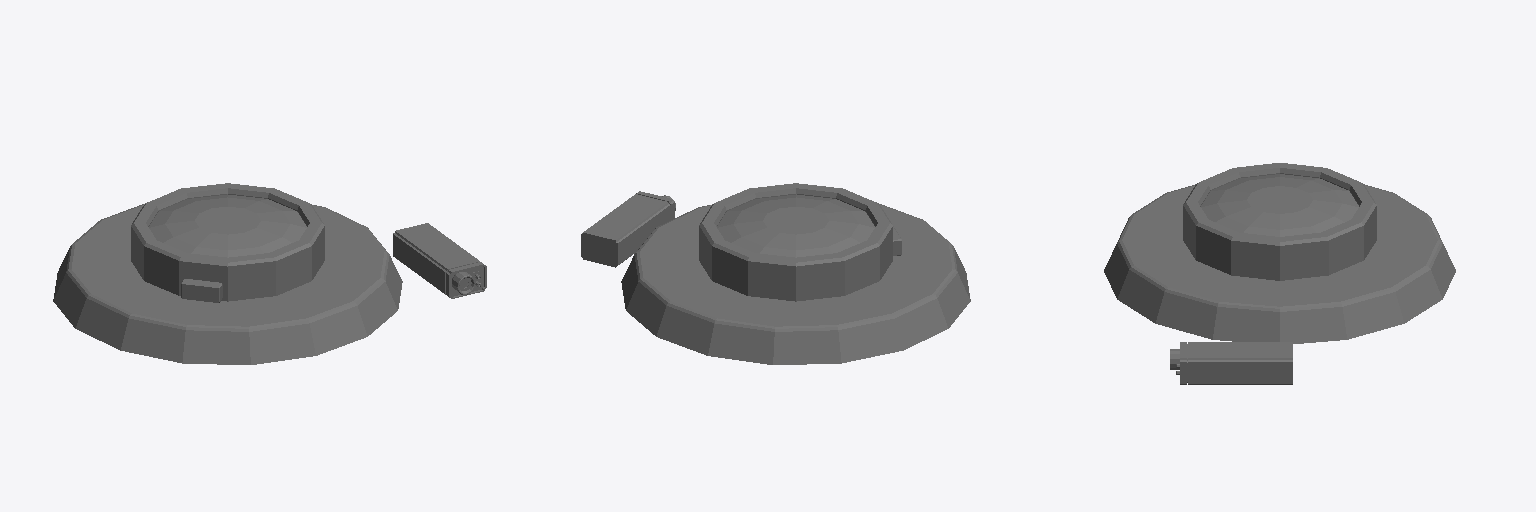
The model's file is Lights.obj.
3 views of the same model, side by side, from view 1: azimuth 30°, elevation 25°; view 2: azimuth 150°, elevation 25°; view 3: azimuth 270°, elevation 25° (orthographic).
Visible parts, largest first — view 1: polySurface12817 polySurface12820, polySurface12817 polySurface12819, polySurface12817 polySurface12822, polySurface12801, polySurface12821 polySurface12817; view 2: polySurface12817 polySurface12820, polySurface12817 polySurface12819, polySurface12817 polySurface12822, polySurface12801; view 3: polySurface12817 polySurface12820, polySurface12817 polySurface12819, polySurface12817 polySurface12822, polySurface12801.
Part boxes in pixels (x1,y1,x2,y2): polySurface12817 polySurface12820: (53,202,402,364); polySurface12817 polySurface12819: (131,183,324,301); polySurface12817 polySurface12822: (149,194,306,257); polySurface12801: (393,223,486,298); polySurface12821 polySurface12817: (181,279,222,302); polySurface12817 polySurface12820: (621,202,970,364); polySurface12817 polySurface12819: (699,183,892,301); polySurface12817 polySurface12822: (717,194,874,257); polySurface12801: (581,191,675,267); polySurface12817 polySurface12820: (1104,184,1455,343); polySurface12817 polySurface12819: (1183,163,1376,280); polySurface12817 polySurface12822: (1201,174,1358,236); polySurface12801: (1170,342,1292,384).
Bounding box in the file's own units: 146 × 32.57 × 123.